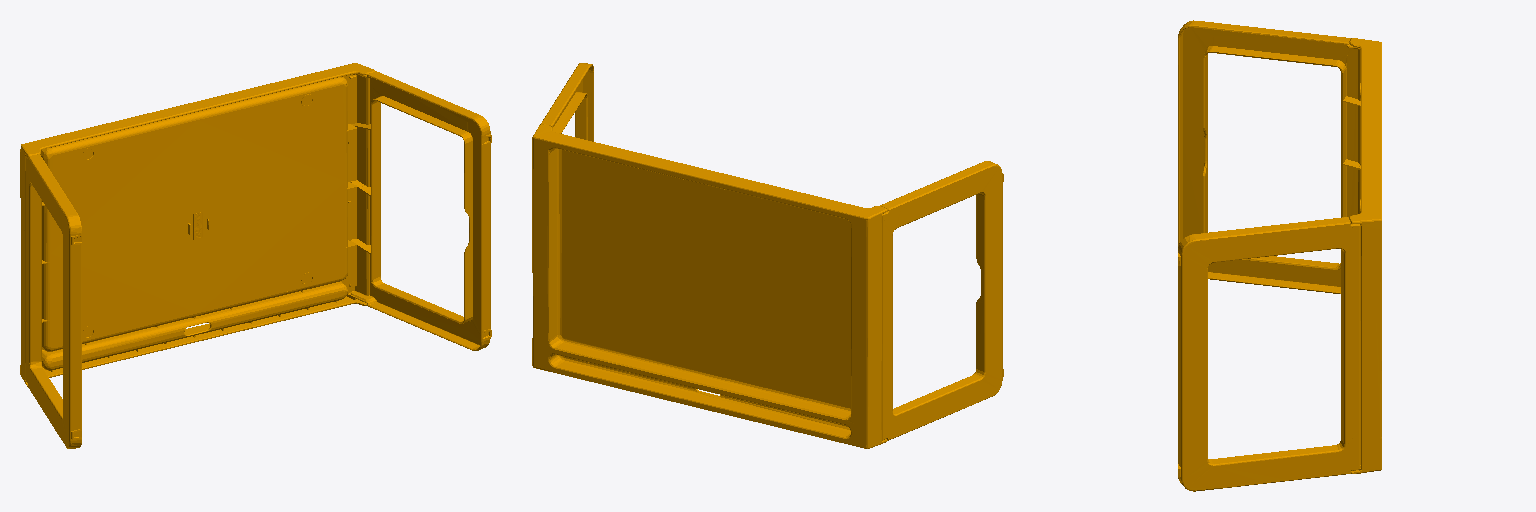
The robot description file, URDF, robot "table":
<?xml version="1.0"?>
<robot name="table">
  <link name="table">
    <visual>
      <origin xyz="0.0 0.0 0.0"/>
      <geometry>
        <mesh filename="table.obj" scale="1.0 1.0 1.0"/>
      </geometry>
    </visual>
    <collision>
      <origin xyz="0.0 0.0 0.0"/>
      <geometry>
        <mesh filename="table.obj" scale="1.0 1.0 1.0"/>
      </geometry>
    </collision>
    <inertial>
      <!-- Mass value from the *empty* spam can. Full spam can is 368g -->
      <mass value="0.026"/> 
      <inertia ixx="0.0001" ixy="0.0" ixz="0.0" iyy="0.0001" iyz="0.0" izz="0.0001"/>
    </inertial>
  </link>
</robot>

--- What the picture shows (computed from the rendered views, not written in the file) ---
The picture shows the robot from 3 angles, left to right: view 1: azimuth 30°, elevation 25°; view 2: azimuth 150°, elevation 25°; view 3: azimuth 270°, elevation 25°; orthographic projection.
Model table with 1 links and 0 joints (none), rooted at table, posed every joint at zero.
Links seen in each view (by area): view 1: table; view 2: table; view 3: table.
Boxes of the visible links, x1,y1,x2,y2 form: table: [20, 63, 491, 448]; table: [532, 63, 1003, 448]; table: [1178, 20, 1381, 491].
Bounding box of the posed robot: 0.6813 × 0.264 × 0.3608 m (x, y, z).
Meshes: 1 distinct files referenced, 1 mesh visuals loaded (1 OBJ).